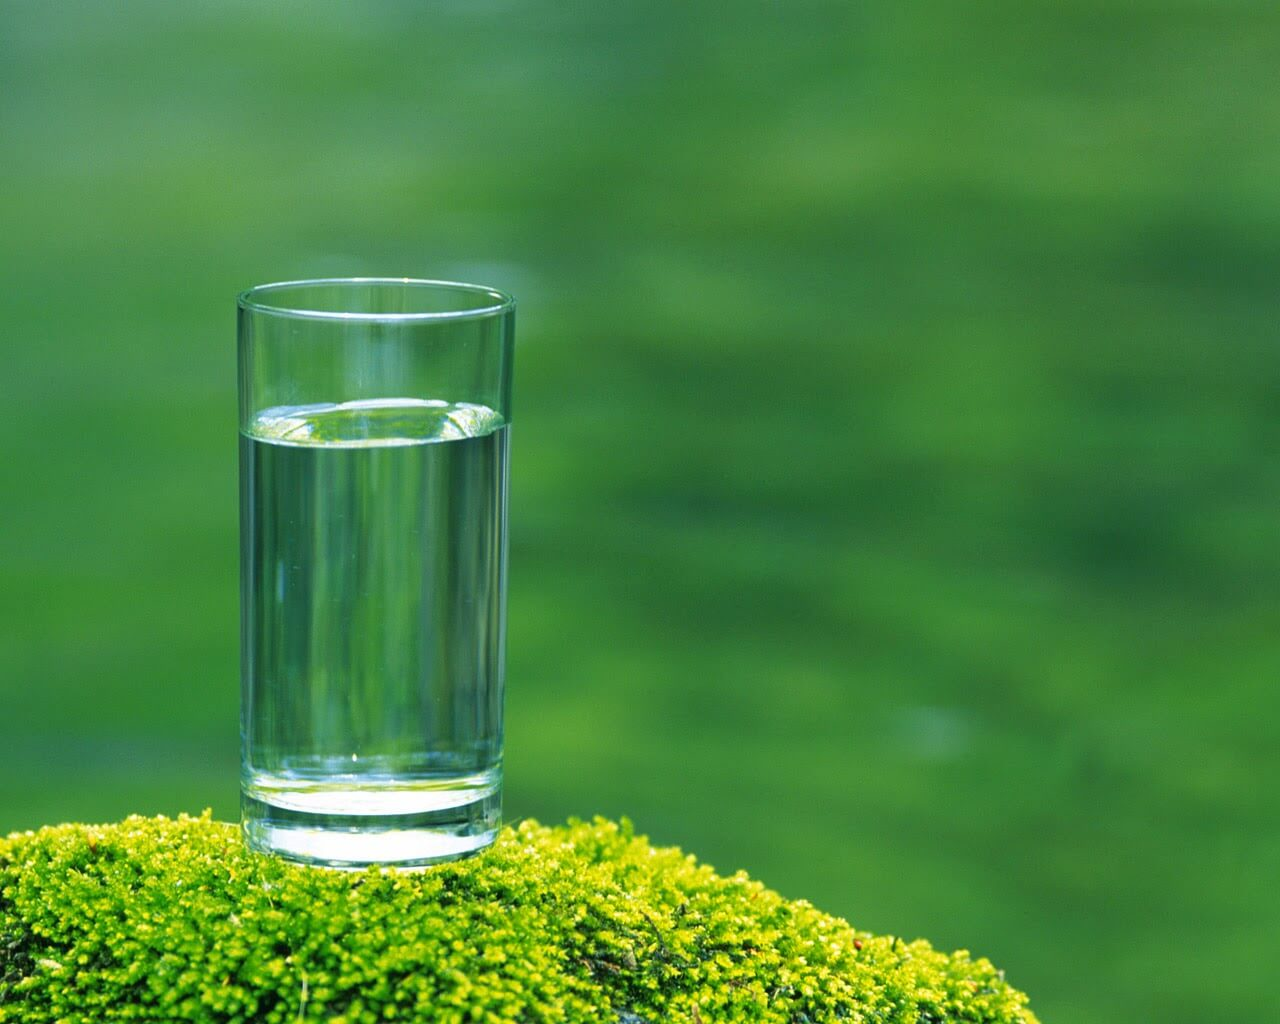glass of water: (272, 279, 478, 830)
